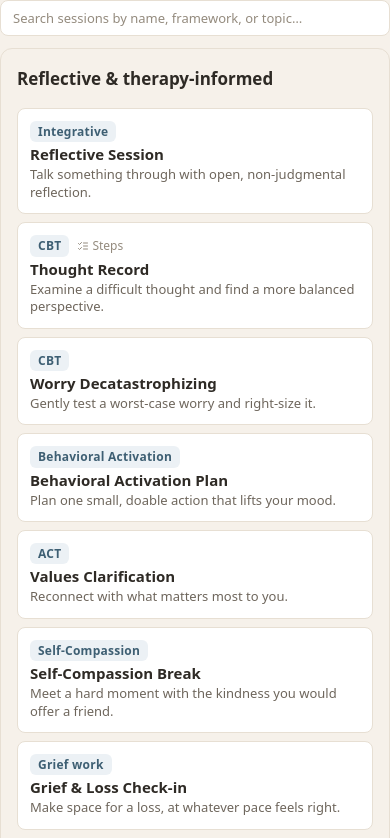
it: GuidedCatalog — expanded groups + search › NEVER reveals gated intimacy content via search before the 18+ ack
The width and height of the screenshot is (390, 838).
Type "sensate" into the search field named "Search guided sessions".
click(195, 18); type("sensate")  # box [0, 0, 389, 36]
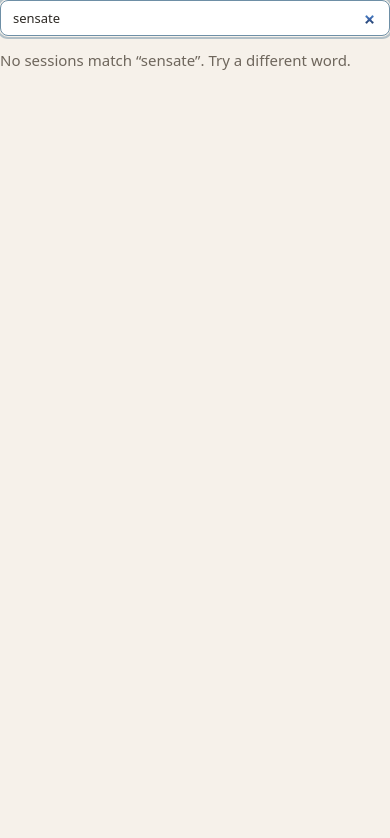
Check: the text "No sessions match “sensate”. Try a different word." is shown, box [0, 48, 389, 72]
